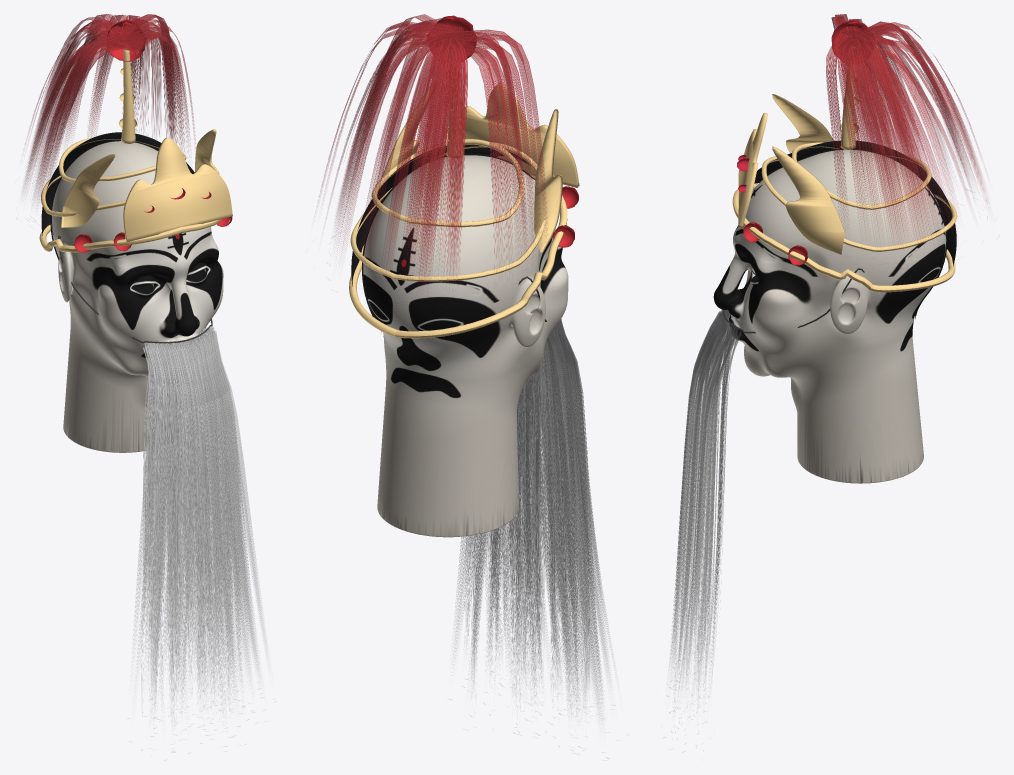
Rendered from head_xiangyu.glb.
The picture shows the model from 3 angles, left to right: view 1: azimuth 30°, elevation 25°; view 2: azimuth 150°, elevation 25°; view 3: azimuth 270°, elevation 25°; orthographic projection. The views are drawn at different scales.
Visible parts, largest first — view 1: Beard, Face, Bawang_Ying, Bawang_Gold, Bawang, Bawang_Rim, Bawang_Pom; view 2: Face, Bawang_Ying, Beard, Bawang_Gold, Bawang_Rim, Bawang, Bawang_Pom; view 3: Face, Bawang_Ying, Beard, Bawang_Gold, Bawang, Bawang_Rim, Bawang_Pom.
Part boxes in pixels (box(x1,y1,x2,y2)): Beard: box(128, 327, 267, 753); Face: box(51, 141, 223, 452); Bawang_Ying: box(23, 14, 195, 202); Bawang_Gold: box(41, 48, 232, 241); Bawang: box(41, 132, 194, 235); Bawang_Rim: box(39, 219, 221, 252); Bawang_Pom: box(74, 19, 232, 252); Face: box(363, 155, 568, 537); Bawang_Ying: box(319, 14, 547, 285); Beard: box(455, 319, 614, 758); Bawang_Gold: box(350, 82, 579, 281); Bawang_Rim: box(349, 176, 567, 338); Bawang: box(351, 144, 530, 286); Bawang_Pom: box(427, 15, 578, 247); Face: box(713, 149, 946, 483); Bawang_Ying: box(826, 14, 986, 240); Beard: box(667, 309, 741, 728); Bawang_Gold: box(738, 65, 957, 254); Bawang: box(754, 140, 956, 266); Bawang_Rim: box(732, 183, 955, 292); Bawang_Pom: box(743, 19, 874, 265).
Size of the model in its own units: 0.2151 by 0.787 by 0.3434.
10 materials, 4 textured.
